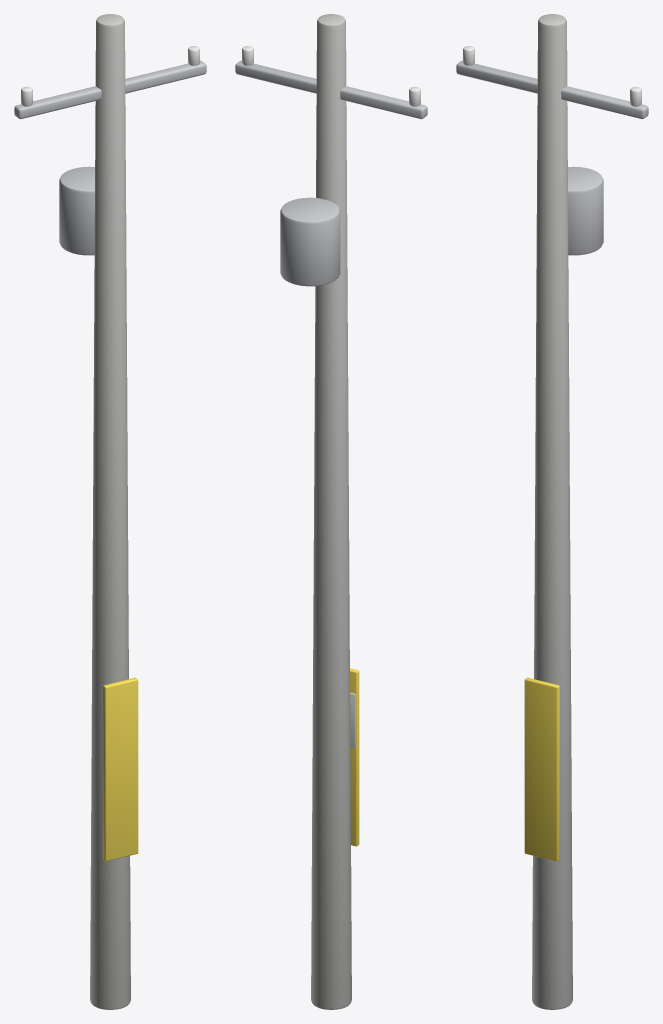
Rendered from denchu.glb.
3 renders of one model, left to right at view 1: azimuth 30°, elevation 25°; view 2: azimuth 150°, elevation 25°; view 3: azimuth 330°, elevation 25°, orthographic.
Visible parts, largest first — view 1: denchu; view 2: denchu; view 3: denchu.
Boxes of the visible parts, x1=… form: denchu: x1=14, y1=14, x2=206, y2=1009; denchu: x1=235, y1=14, x2=427, y2=1009; denchu: x1=456, y1=14, x2=648, y2=1009.
Bounding box in the file's own units: 1.8 × 9 × 0.7936.
